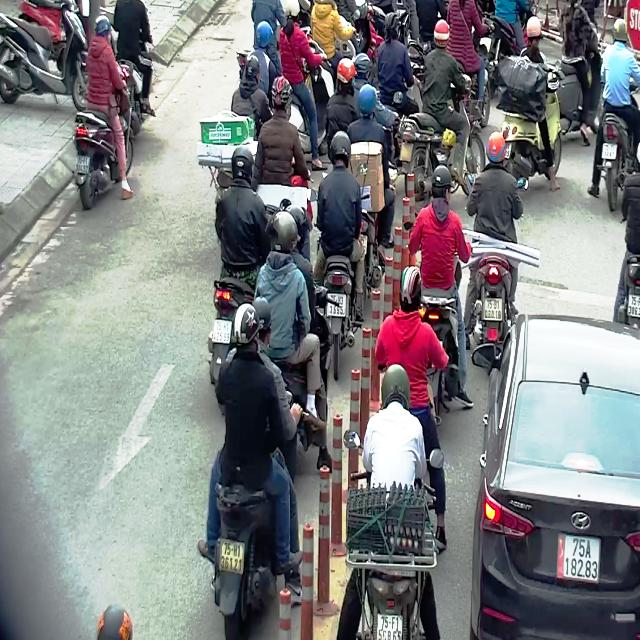license_plate: (559, 534, 601, 582), (221, 540, 246, 576), (213, 321, 233, 345), (484, 299, 503, 320)
